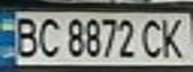2: (115, 16, 139, 60)
7: (100, 16, 121, 58)
8: (81, 15, 103, 58), (63, 15, 84, 58)
B: (9, 14, 42, 58)
C: (33, 15, 63, 58), (139, 16, 166, 60)
K: (157, 15, 190, 60)
